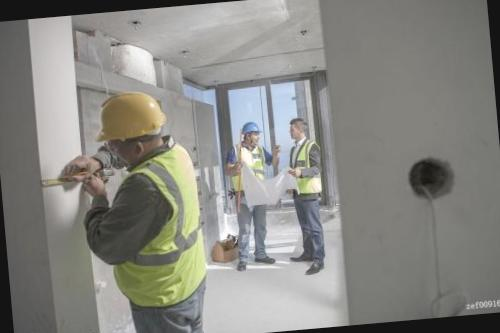no_helmet: (286, 112, 312, 146)
